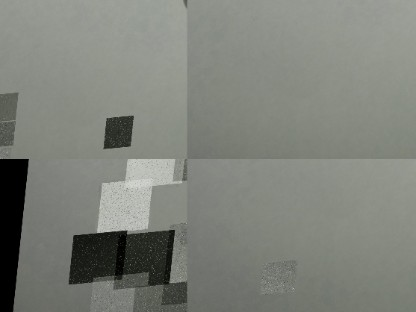ironball: (118, 233, 179, 292), (73, 233, 131, 286), (100, 181, 155, 236), (93, 275, 154, 312), (127, 159, 186, 191), (167, 224, 187, 309), (135, 284, 187, 312), (265, 264, 302, 298), (107, 121, 137, 154), (0, 95, 21, 125), (0, 124, 19, 151)
